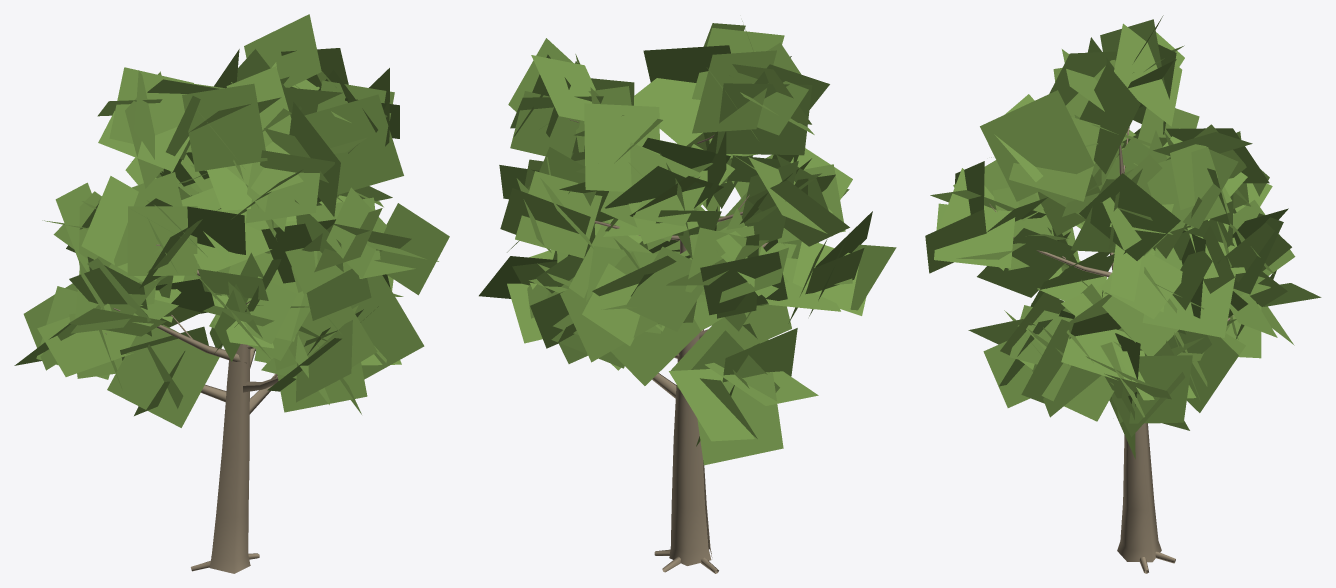
Rendered from oak-4-lod2.glb.
The picture shows the model from 3 angles, left to right: view 1: azimuth 30°, elevation 25°; view 2: azimuth 150°, elevation 25°; view 3: azimuth 270°, elevation 25°; orthographic projection. The views are drawn at different scales.
Parts seen in each view (by area): view 1: oak-4-lod2-foliage, oak-4-lod2-bark; view 2: oak-4-lod2-foliage, oak-4-lod2-bark; view 3: oak-4-lod2-foliage, oak-4-lod2-bark.
Boxes of the visible parts, left/top/right/bottom form: oak-4-lod2-foliage: left=14, top=14, right=449, bottom=427; oak-4-lod2-bark: left=105, top=244, right=278, bottom=573; oak-4-lod2-foliage: left=479, top=21, right=896, bottom=465; oak-4-lod2-bark: left=569, top=119, right=768, bottom=573; oak-4-lod2-foliage: left=925, top=15, right=1321, bottom=459; oak-4-lod2-bark: left=989, top=127, right=1233, bottom=573.
Size of the model in its own units: 15.3 by 21.17 by 15.18.
